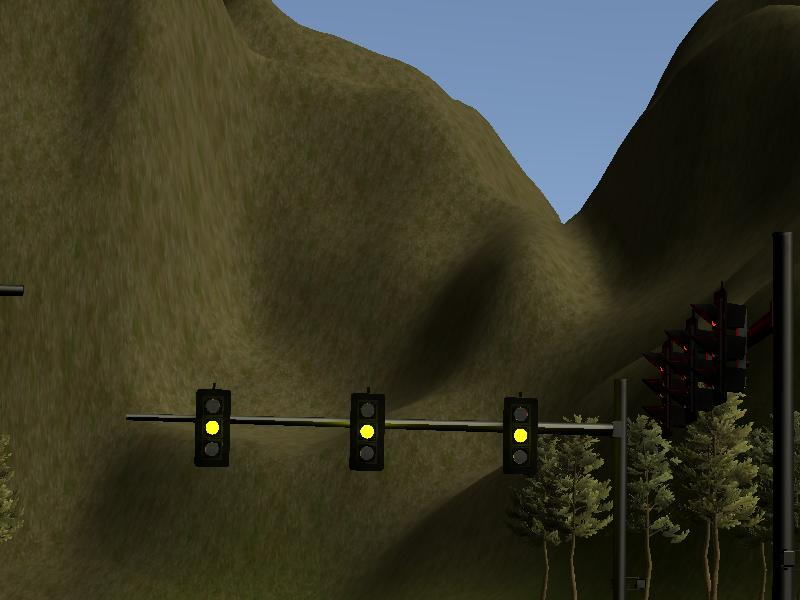yellow: (194, 387, 230, 467), (348, 393, 384, 473), (502, 393, 538, 473)
